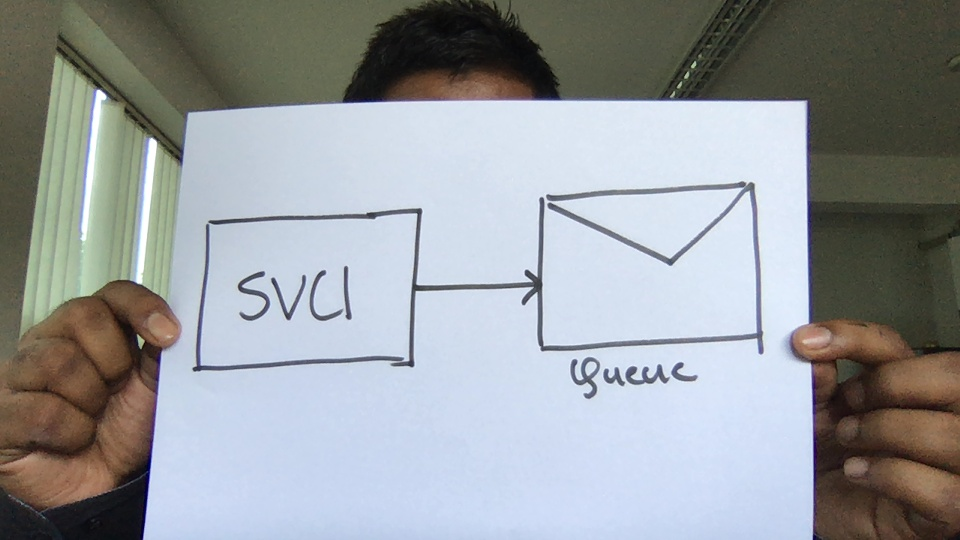ec2: (188, 205, 433, 376)
sns: (527, 179, 775, 368)
